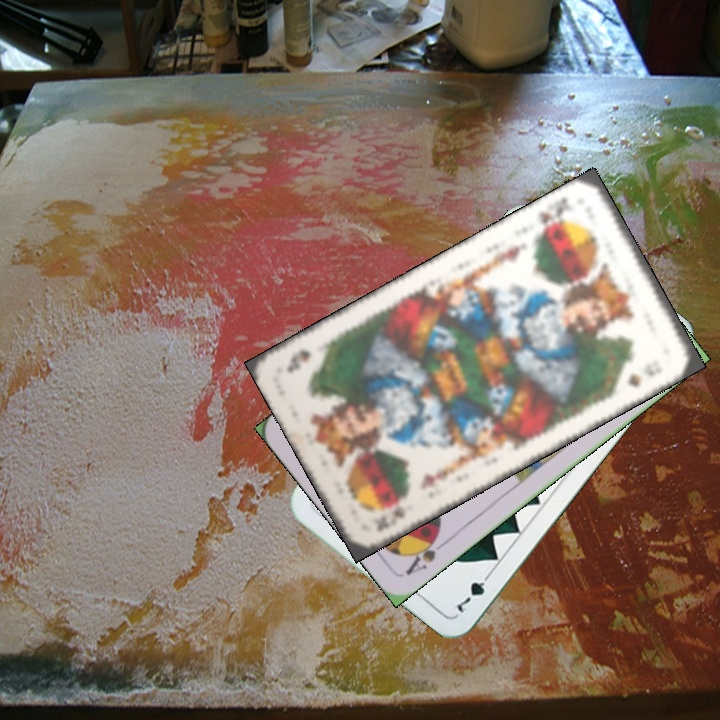G7: (452, 567, 495, 616)
SA: (400, 528, 451, 578)
SK: (533, 192, 573, 237), (369, 503, 408, 533)
